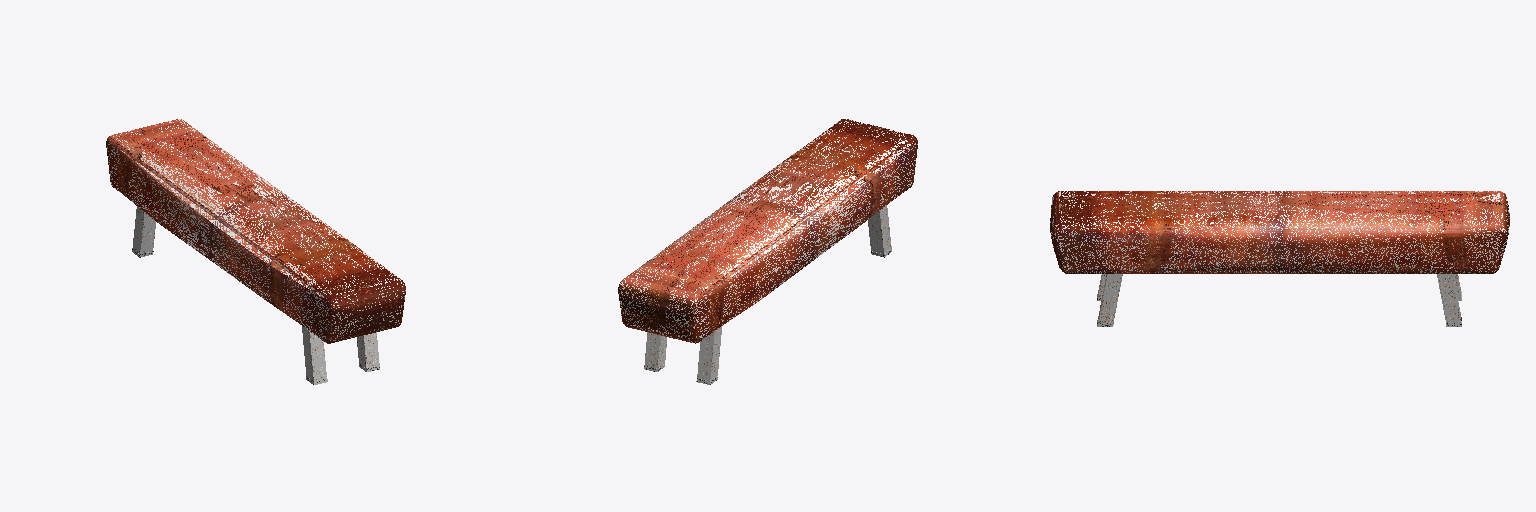
3 views of the same model, side by side, from view 1: azimuth 30°, elevation 25°; view 2: azimuth 150°, elevation 25°; view 3: azimuth 270°, elevation 25° (orthographic).
Parts seen in each view (by area): view 1: mesh5.002_mesh5-geometry, mesh1.003_mesh1-geometry, mesh3.003_mesh3-geometry, mesh1.004_mesh1-geometry; view 2: mesh5.002_mesh5-geometry, mesh3.003_mesh3-geometry, mesh1.003_mesh1-geometry, mesh3.004_mesh3-geometry; view 3: mesh5.002_mesh5-geometry, mesh1.004_mesh1-geometry, mesh3.004_mesh3-geometry.
Part boxes in pixels (bbox=[...]): mesh5.002_mesh5-geometry: bbox=[106, 119, 405, 343]; mesh1.003_mesh1-geometry: bbox=[302, 326, 327, 384]; mesh3.003_mesh3-geometry: bbox=[132, 206, 155, 257]; mesh1.004_mesh1-geometry: bbox=[357, 332, 379, 371]; mesh5.002_mesh5-geometry: bbox=[618, 119, 917, 343]; mesh3.003_mesh3-geometry: bbox=[696, 326, 721, 384]; mesh1.003_mesh1-geometry: bbox=[868, 205, 891, 257]; mesh3.004_mesh3-geometry: bbox=[644, 332, 666, 371]; mesh5.002_mesh5-geometry: bbox=[1050, 191, 1509, 273]; mesh1.004_mesh1-geometry: bbox=[1097, 274, 1122, 326]; mesh3.004_mesh3-geometry: bbox=[1437, 274, 1461, 326].
Bounding box in the file's own units: 0.2175 × 0.2476 × 0.9441.
4 materials, 3 textured.